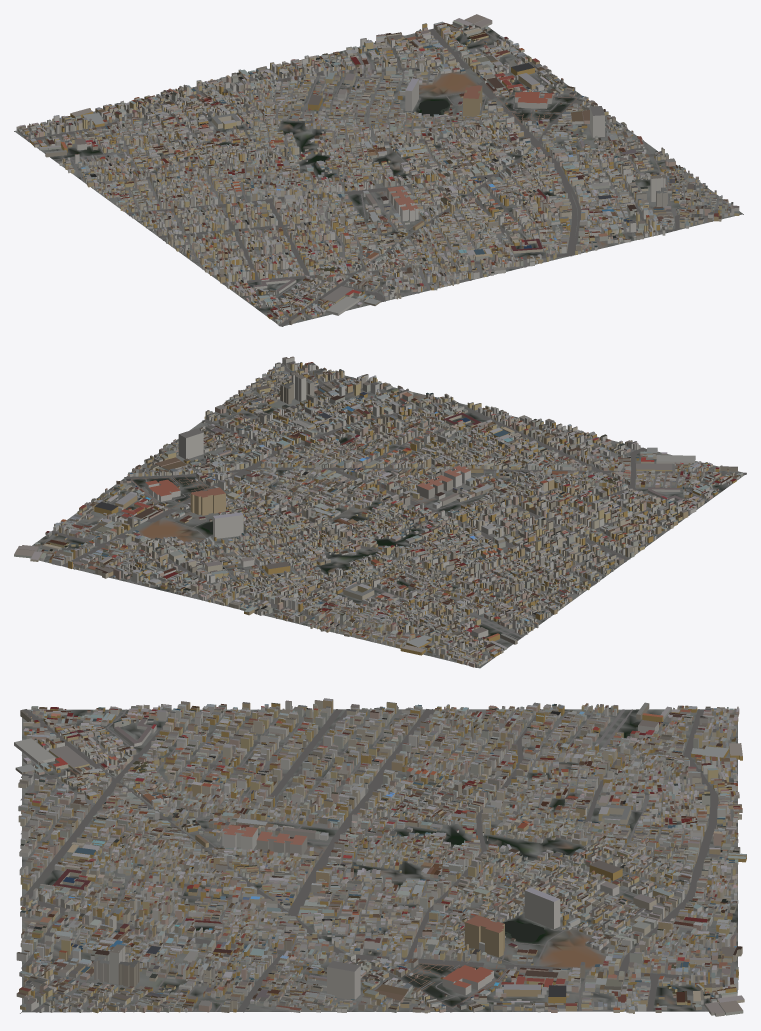
The picture shows the model from 3 angles, top to bottom: view 1: azimuth 30°, elevation 25°; view 2: azimuth 150°, elevation 25°; view 3: azimuth 270°, elevation 25°; orthographic projection. The views are drawn at different scales.
Visible parts, largest first — view 1: buildings, ground, roads; view 2: buildings, ground, roads; view 3: buildings, ground, roads, water.
Boxes of the visible parts, x1,y1,x2,y2 form: buildings: [16, 14, 739, 324]; ground: [14, 24, 743, 325]; roads: [25, 26, 729, 326]; buildings: [14, 356, 743, 667]; ground: [29, 363, 746, 668]; roads: [39, 364, 746, 665]; buildings: [14, 698, 746, 1016]; ground: [22, 709, 737, 1012]; roads: [20, 709, 738, 1013]; water: [503, 921, 545, 941].
Bounding box in the file's own units: 1431 × 70.55 × 1434.
